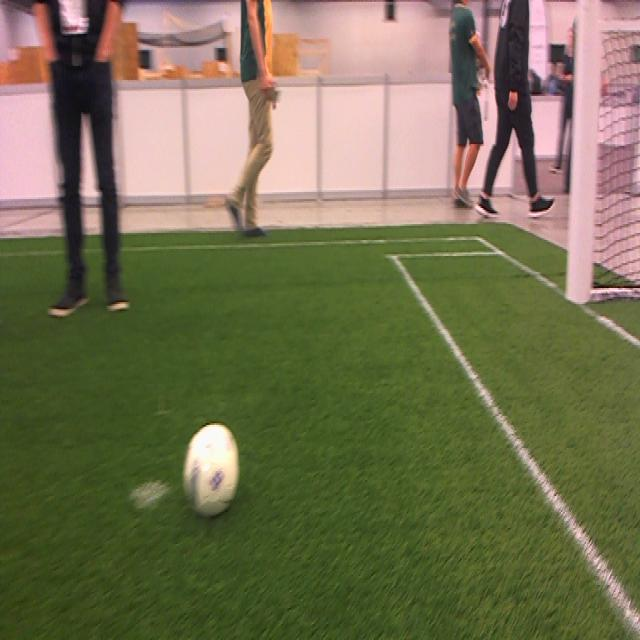ball: (182, 425, 240, 517)
goalpost: (567, 0, 603, 302)
